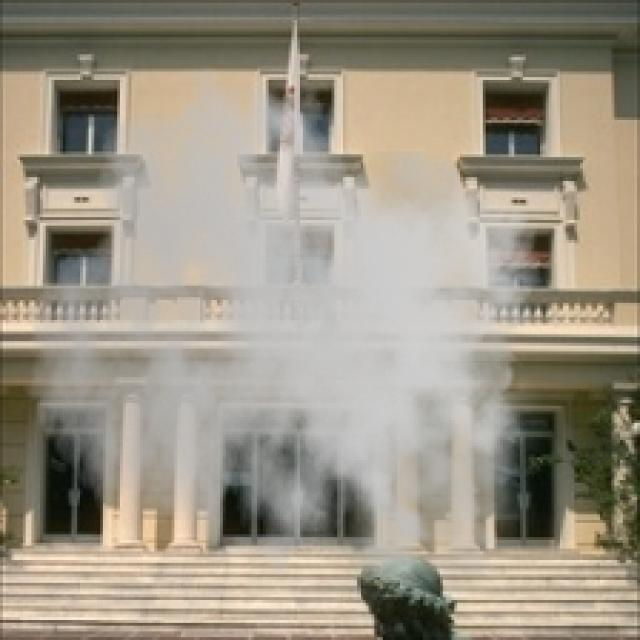smoke: (29, 66, 557, 617)
